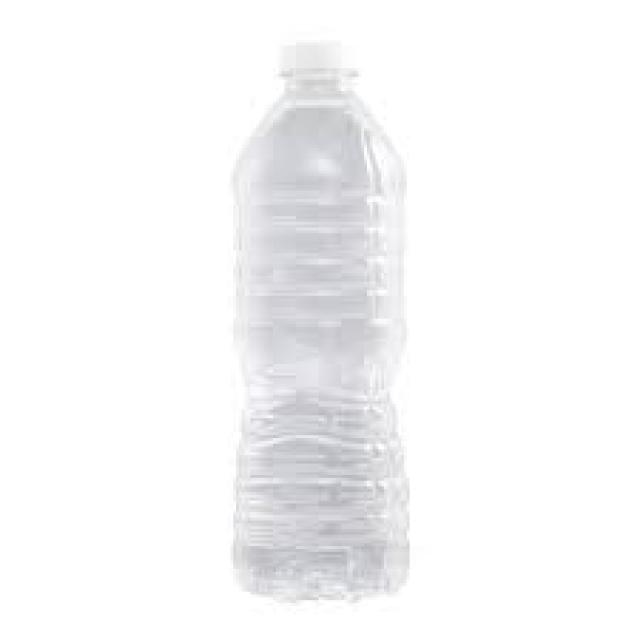plastic cup: (234, 44, 409, 597)
